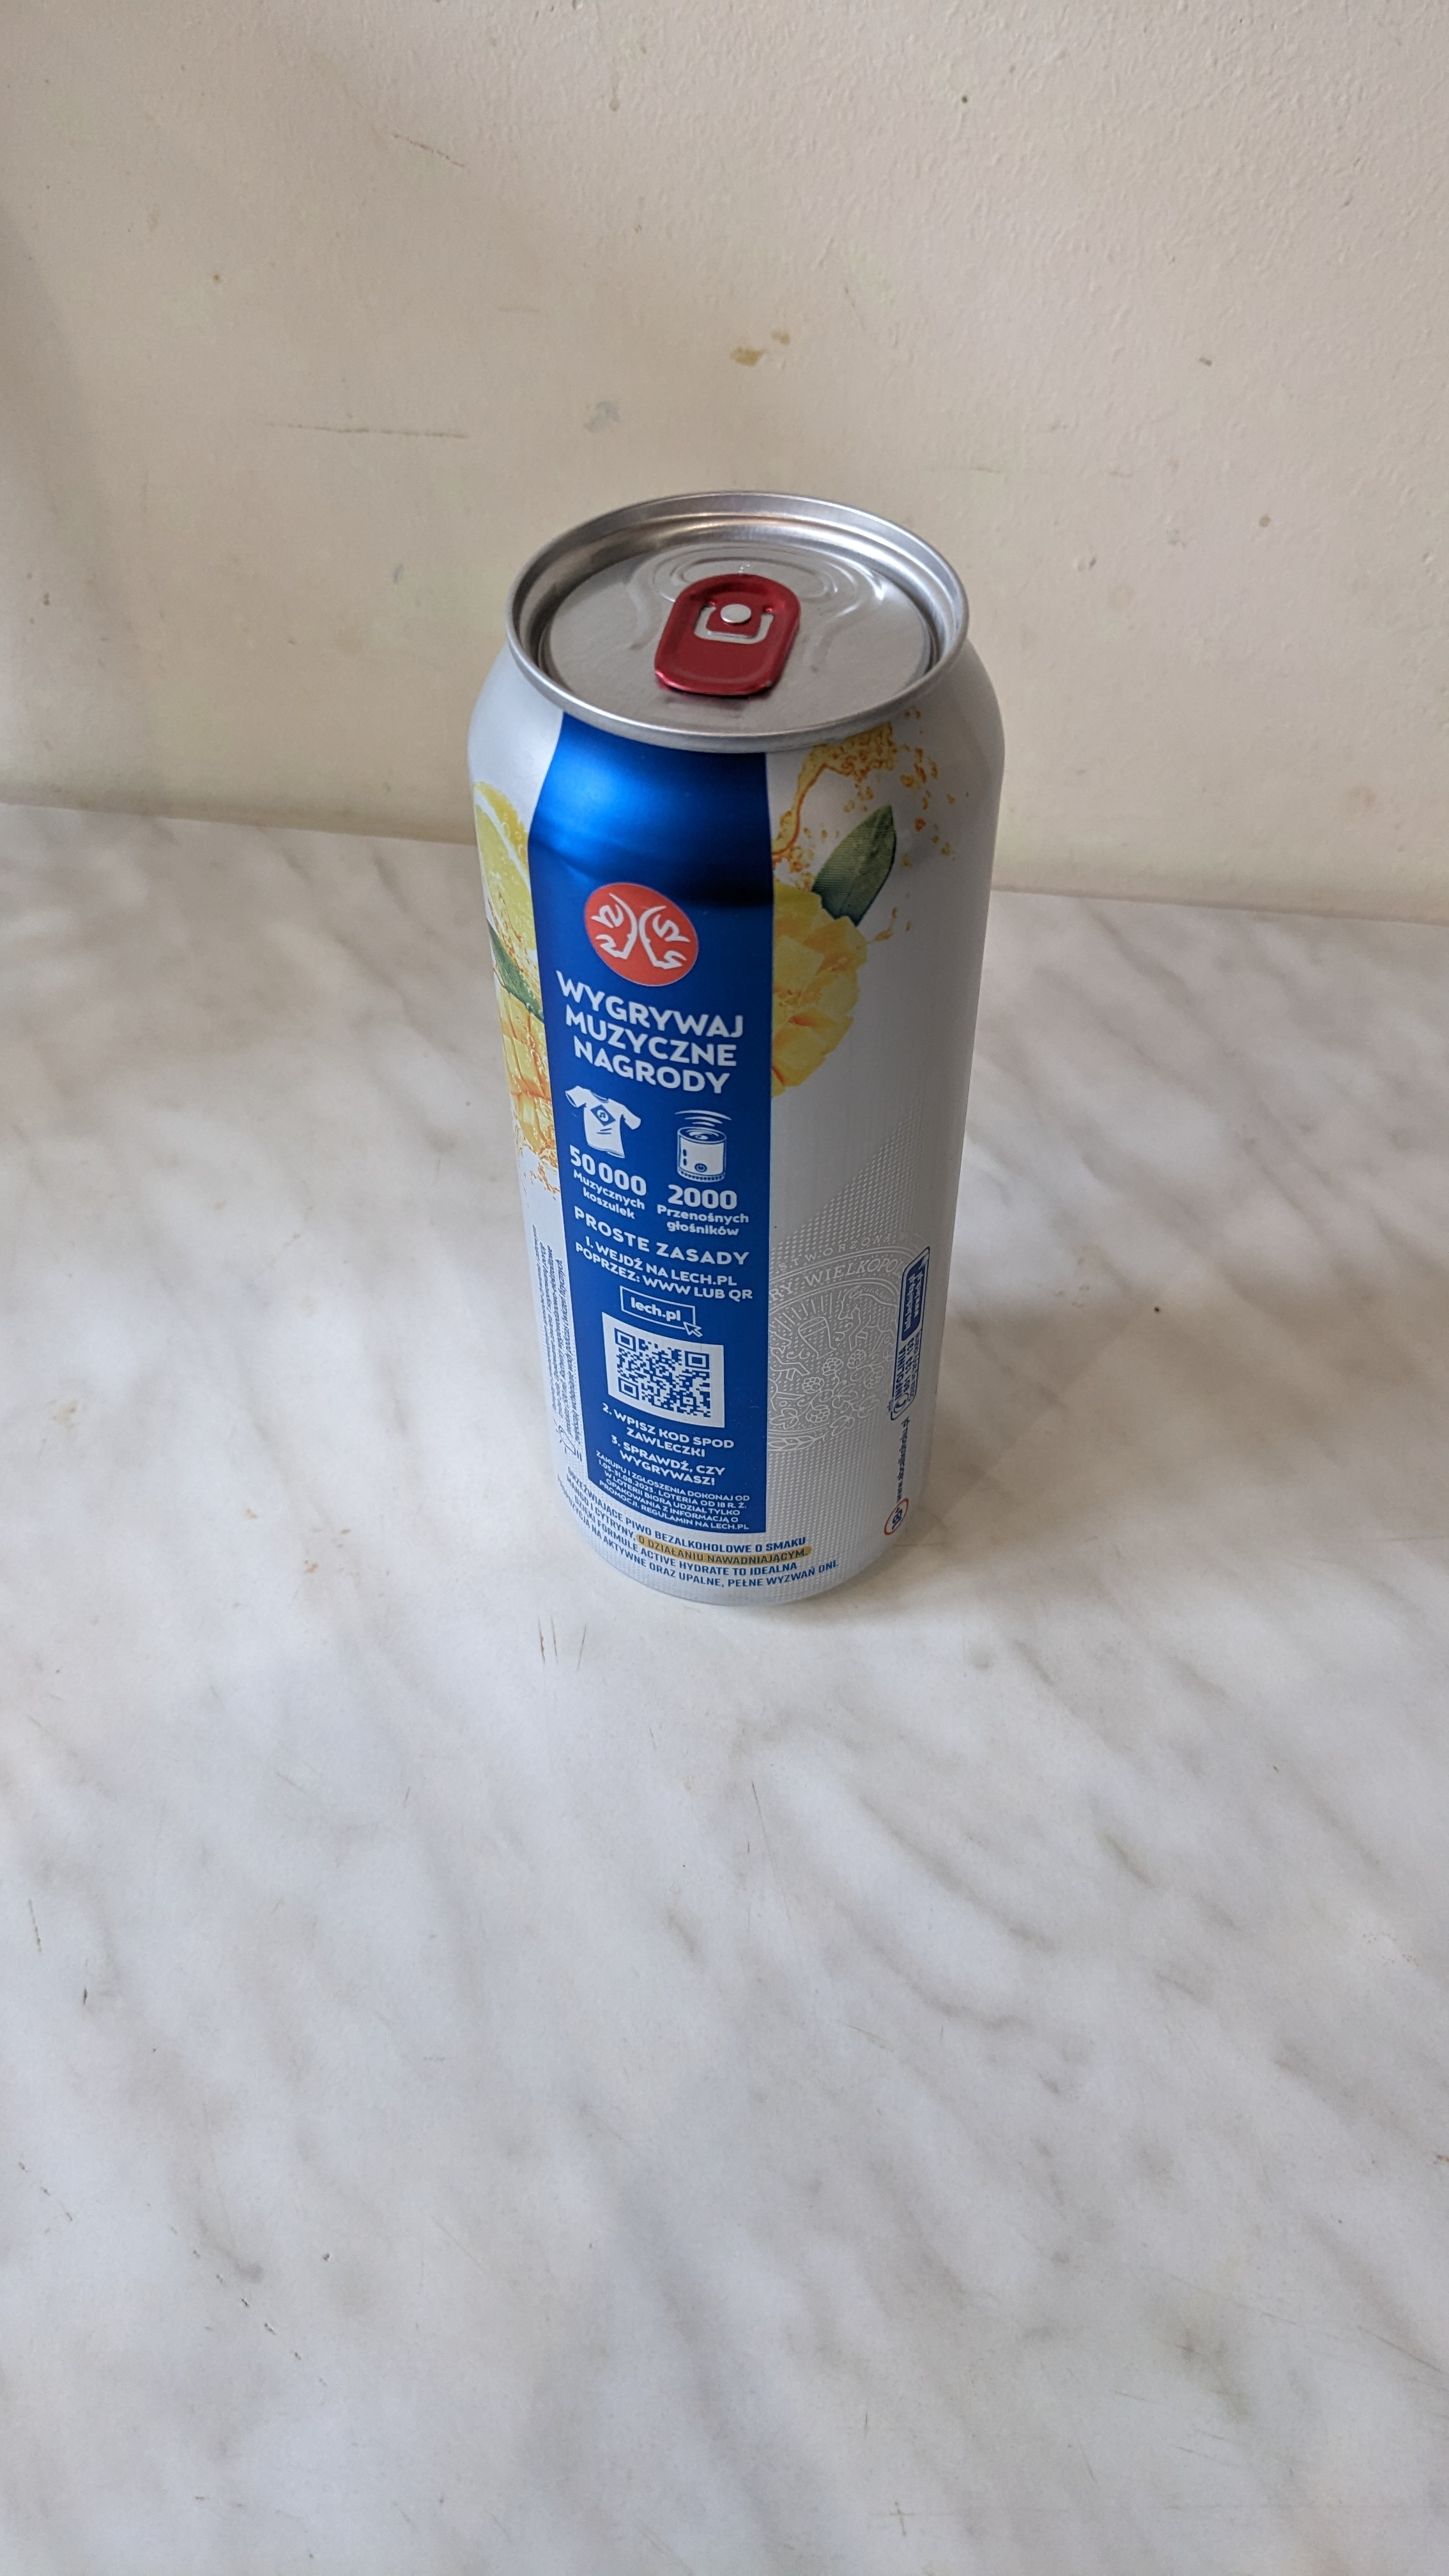lech-active: (441, 490, 1040, 1679)
